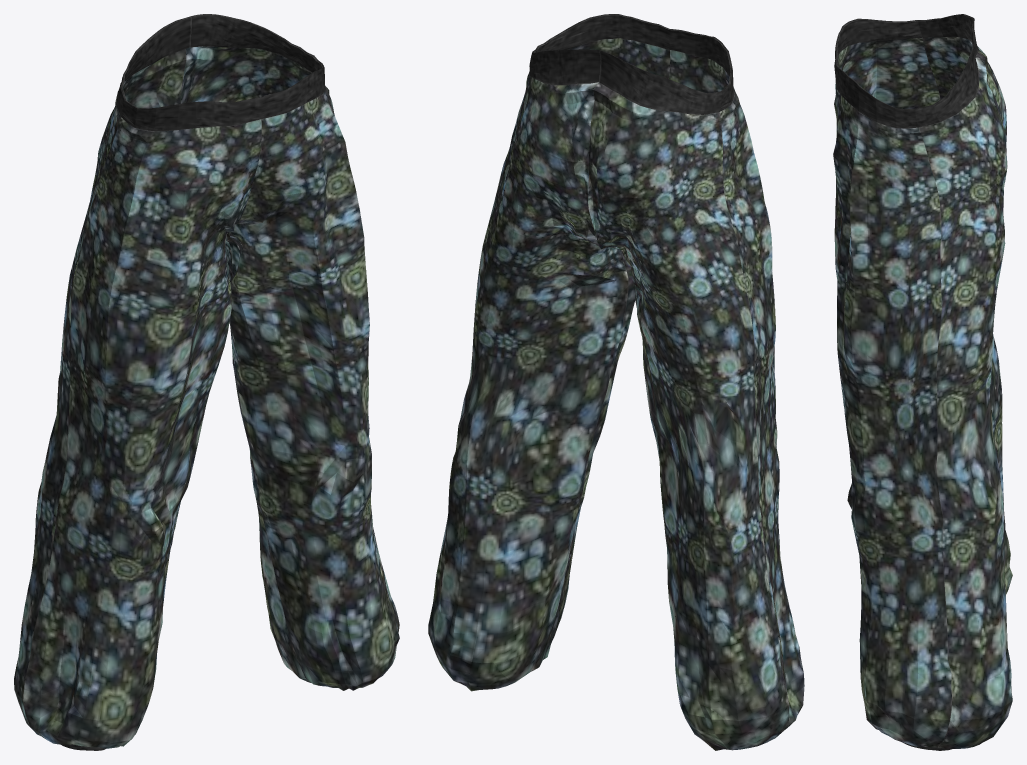
Rendered from mhw_toigo_harem_pants.glb.
3 views of the same model, side by side, from view 1: azimuth 30°, elevation 25°; view 2: azimuth 150°, elevation 25°; view 3: azimuth 270°, elevation 25° (orthographic). The views are drawn at different scales.
Visible parts, largest first — view 1: mhw_toigo_harem_pants; view 2: mhw_toigo_harem_pants; view 3: mhw_toigo_harem_pants.
Part boxes in pixels (left/top/right/bottom): mhw_toigo_harem_pants: left=14, top=14, right=399, bottom=750; mhw_toigo_harem_pants: left=428, top=14, right=804, bottom=750; mhw_toigo_harem_pants: left=833, top=14, right=1012, bottom=750.
Size of the model in its own units: 0.5838 by 1.06 by 0.2617.
1 material, 1 textured.
